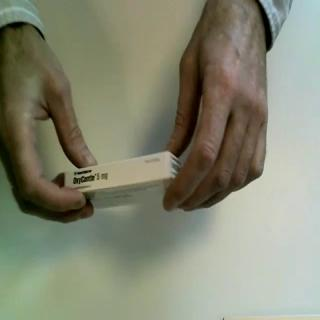oxycontin5mg: (64, 149, 185, 211)
